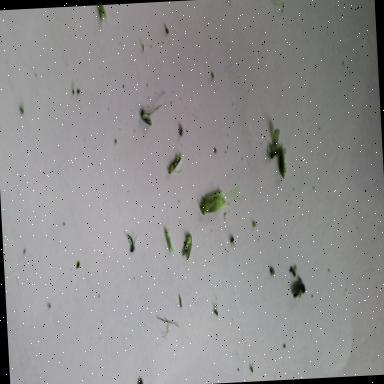pbw: (198, 191, 230, 216), (275, 144, 286, 178), (162, 225, 173, 255), (97, 5, 108, 26)
